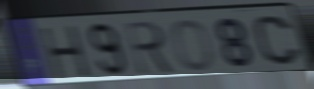8: (216, 16, 255, 70)
9: (87, 21, 129, 79)
C: (252, 14, 304, 68)
H: (38, 23, 94, 82)
O: (170, 18, 216, 73)
R: (122, 19, 178, 77)
